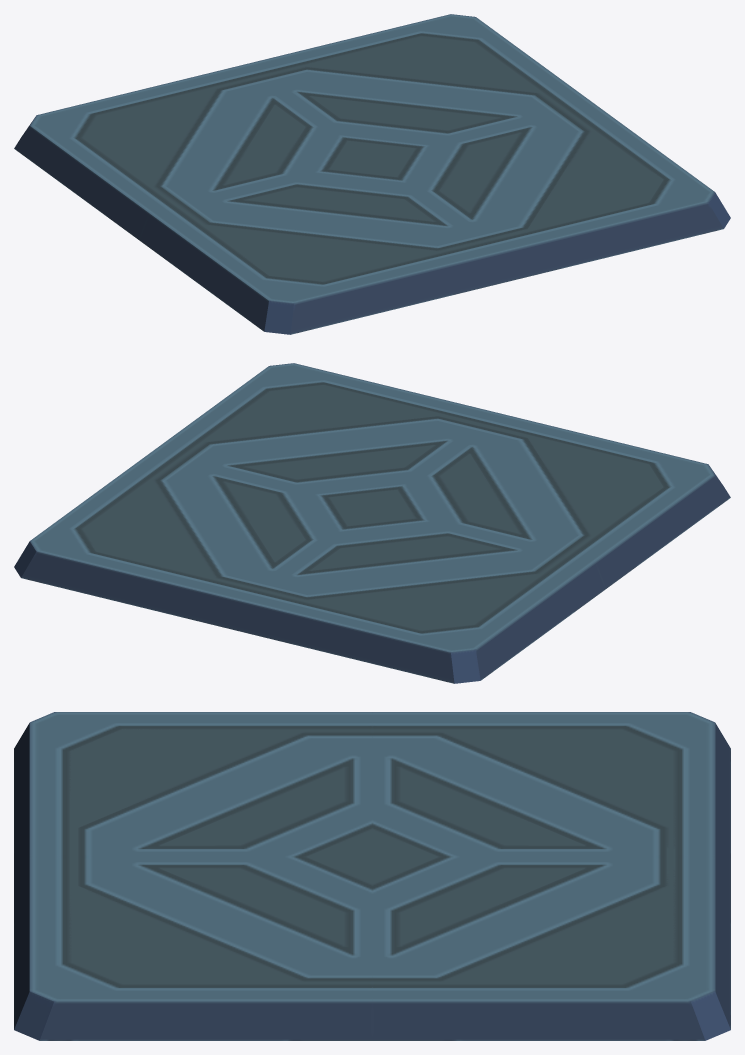
Rendered from G_011_SpeedPad.FBX.
3 renders of one model, top to bottom at view 1: azimuth 30°, elevation 25°; view 2: azimuth 150°, elevation 25°; view 3: azimuth 270°, elevation 25°, orthographic. The views are drawn at different scales.
Visible parts, largest first — view 1: SpeedPad, yellow_03, yellow_02, yellow_01; view 2: SpeedPad, yellow_03, yellow_02, yellow_01; view 3: SpeedPad, yellow_03, yellow_02, yellow_01.
Boxes of the visible parts, x1=… form: SpeedPad: x1=14, y1=14, x2=730, y2=334; yellow_03: x1=149, y1=36, x2=663, y2=280; yellow_02: x1=245, y1=96, x2=479, y2=221; yellow_01: x1=330, y1=141, x2=415, y2=176; SpeedPad: x1=14, y1=363, x2=730, y2=683; yellow_03: x1=91, y1=385, x2=663, y2=610; yellow_02: x1=249, y1=445, x2=495, y2=570; yellow_01: x1=329, y1=490, x2=411, y2=525; SpeedPad: x1=14, y1=712, x2=730, y2=1040; yellow_03: x1=69, y1=729, x2=675, y2=983; yellow_02: x1=160, y1=801, x2=584, y2=918; yellow_01: x1=307, y1=839, x2=437, y2=874.
Size of the model in its own units: 200 by 10 by 200.
